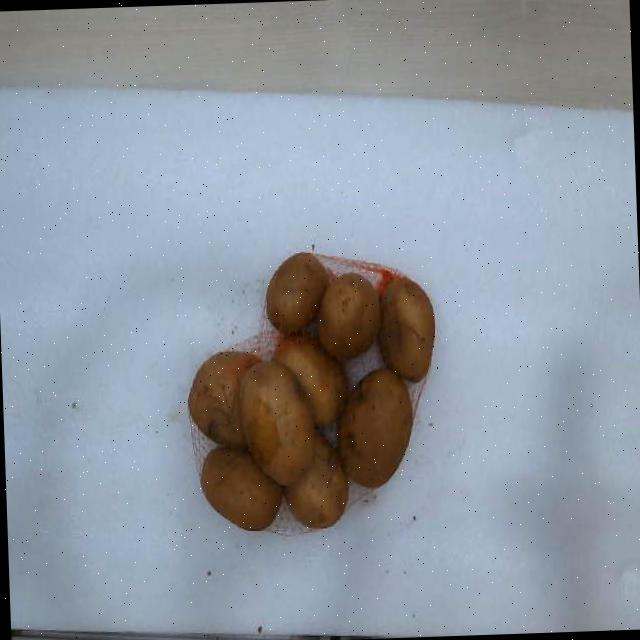potato: (241, 362, 315, 484), (339, 368, 412, 486), (188, 351, 260, 449), (200, 447, 281, 530), (273, 334, 346, 425), (285, 434, 348, 528), (380, 277, 434, 381), (318, 272, 380, 358), (266, 252, 329, 332)
